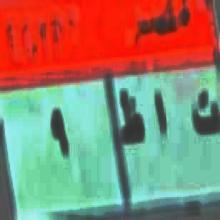9: (49, 105, 72, 175)
Thaa: (119, 82, 145, 162)
alif: (150, 84, 169, 154)
taa: (191, 81, 220, 150)
